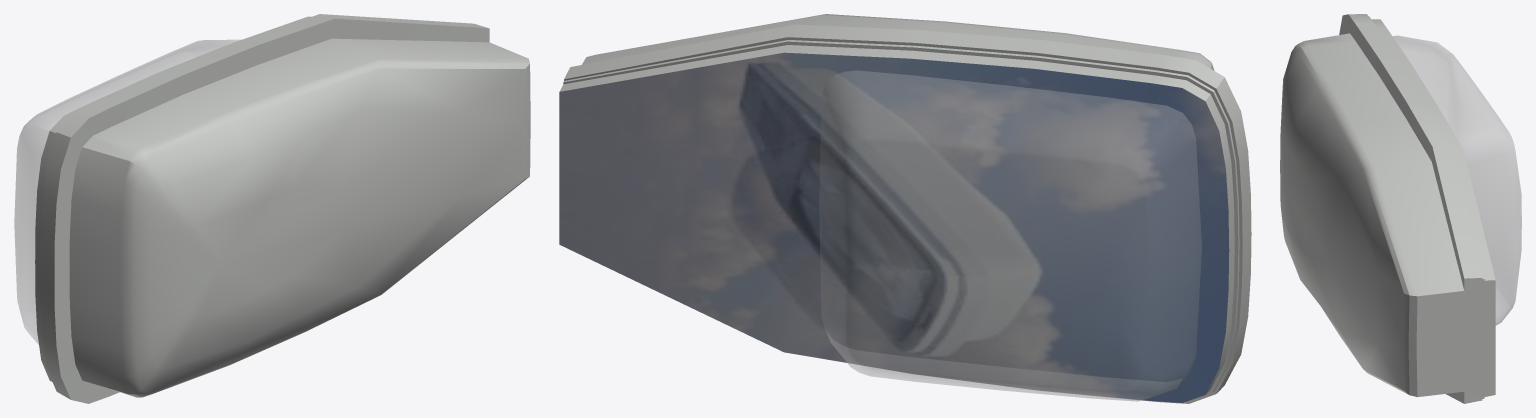
The model's file is SGS_203.obj.
3 views of the same model, side by side, from view 1: azimuth 30°, elevation 25°; view 2: azimuth 150°, elevation 25°; view 3: azimuth 270°, elevation 25° (orthographic). The views are drawn at different scales.
Parts seen in each view (by area): view 1: BezierCurve.002_BezierCurve.001, BezierCurve.004_BezierCurve.002; view 2: BezierCurve.002_BezierCurve.001, BezierCurve.004_BezierCurve.002; view 3: BezierCurve.002_BezierCurve.001, BezierCurve.004_BezierCurve.002.
Part boxes in pixels (box(x1,y1,x2,y2)): BezierCurve.002_BezierCurve.001: box(35, 14, 530, 403); BezierCurve.004_BezierCurve.002: box(14, 39, 240, 344); BezierCurve.002_BezierCurve.001: box(559, 14, 1251, 403); BezierCurve.004_BezierCurve.002: box(819, 70, 1201, 401); BezierCurve.002_BezierCurve.001: box(1280, 14, 1495, 403); BezierCurve.004_BezierCurve.002: box(1393, 35, 1521, 325).
Bounding box in the file's own units: 0.6057 × 0.3219 × 0.2744.
